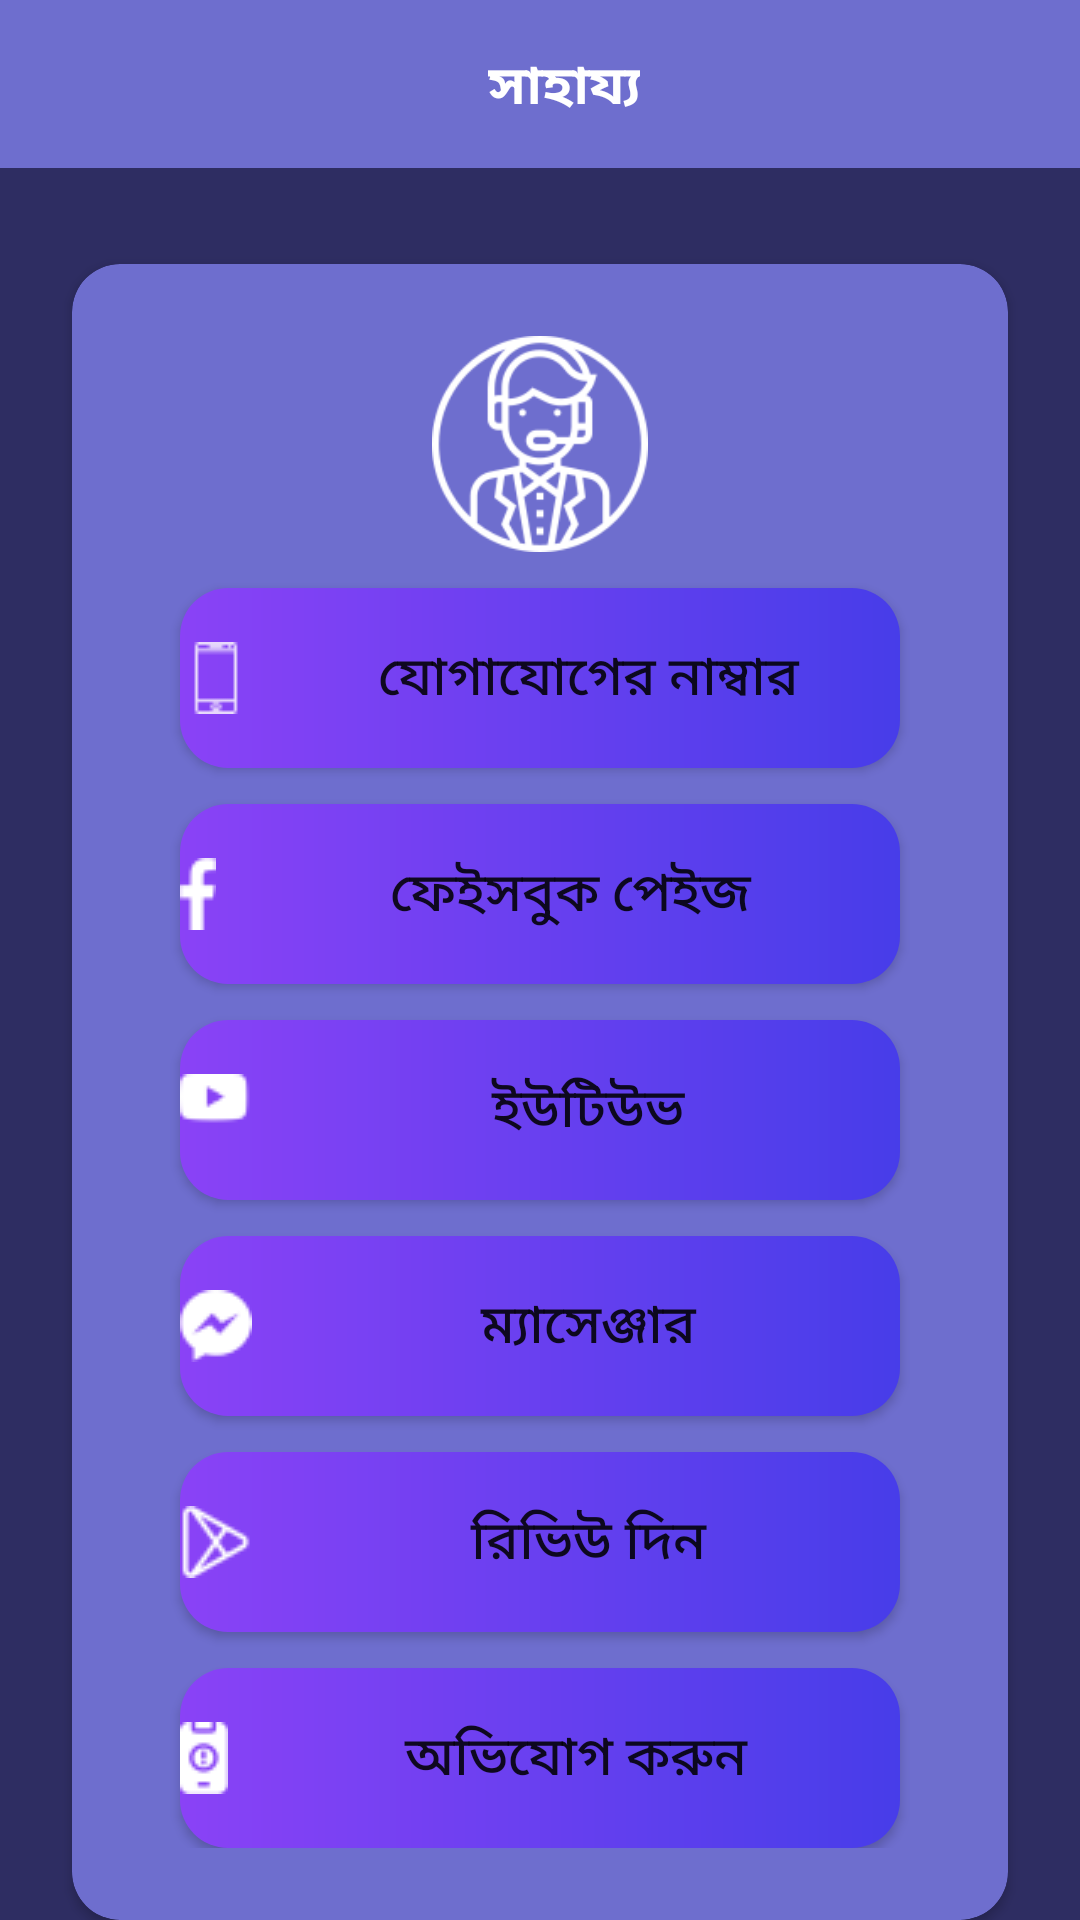

Locate icon controls on the screen. Image size 1080*1920, boxes as (x1,y1,x2,y2).
helpline: (432,336,648,552)
